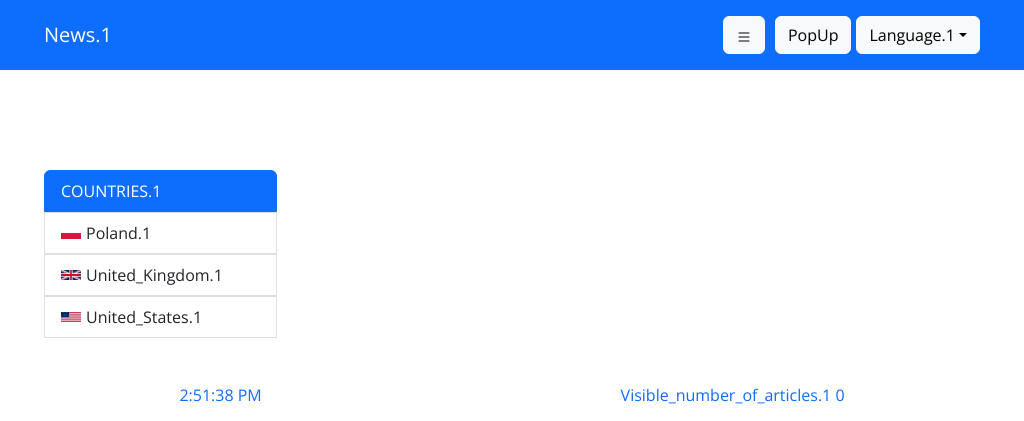
it: Renders main page correctly › Should show grid icon after list-icon click
Expected: the icon with test id "list-icon" is shown, [736,29,752,45]
Click the button with test id "list-icon" at [744, 35], box [723,16,765,54]
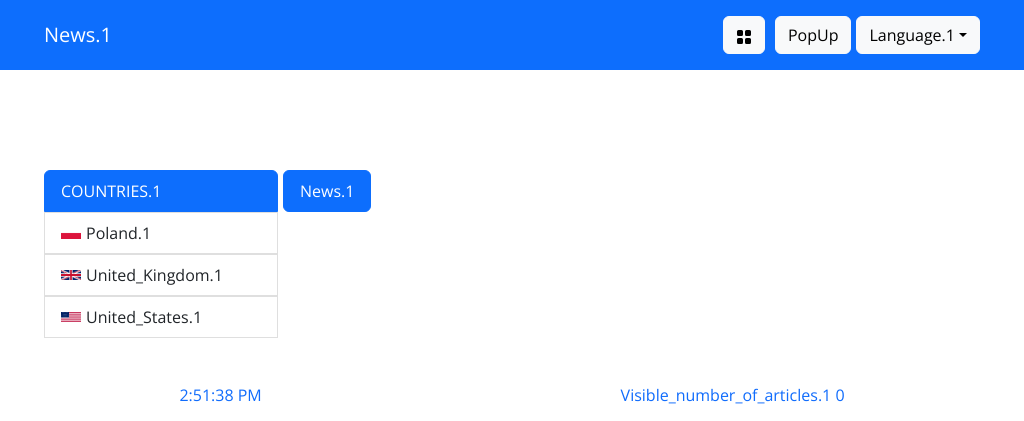
Now the icon with test id "grid-icon" is shown, box [736,29,752,45]
